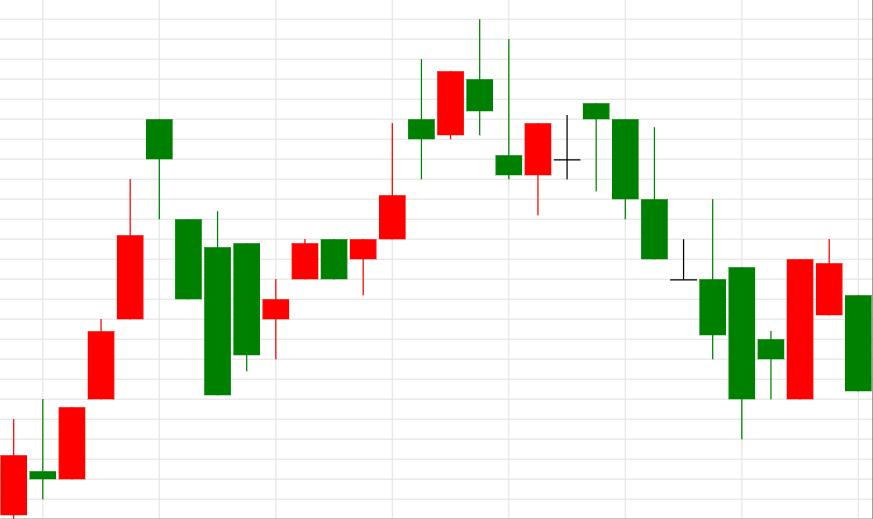hanging_man_fall: (1, 120, 172, 518)
